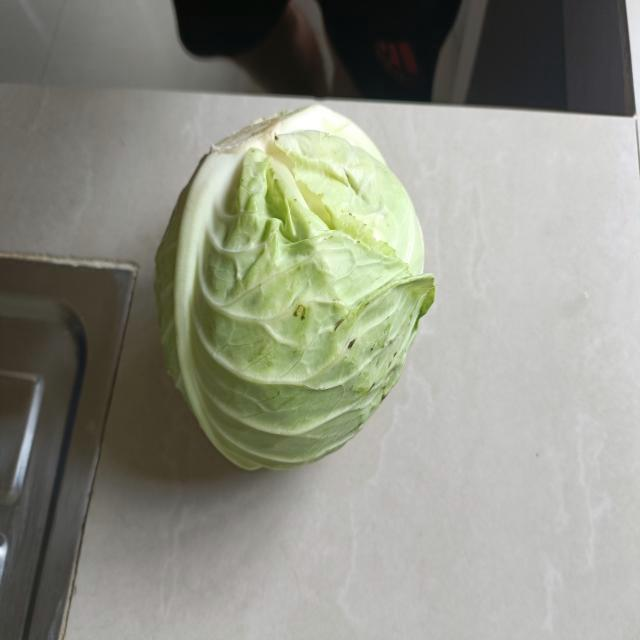cabbage: (157, 113, 427, 474)
